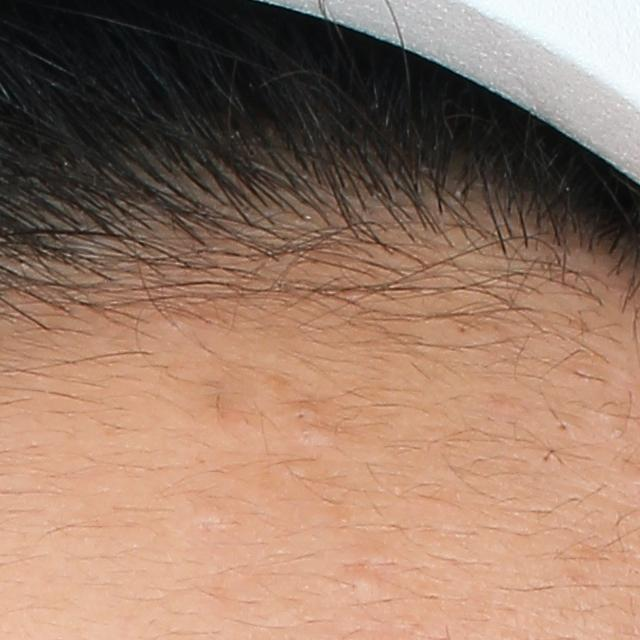comedo: (343, 569, 381, 604), (287, 405, 319, 425), (551, 414, 575, 438)
